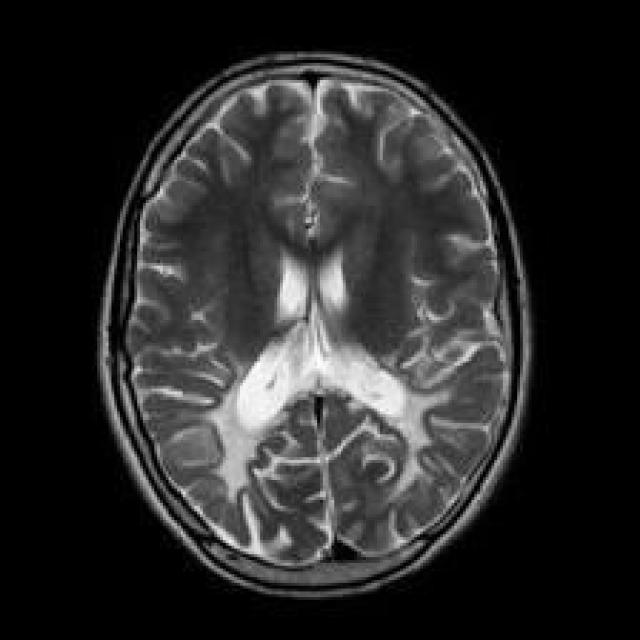no_tumor: (89, 48, 544, 601)
